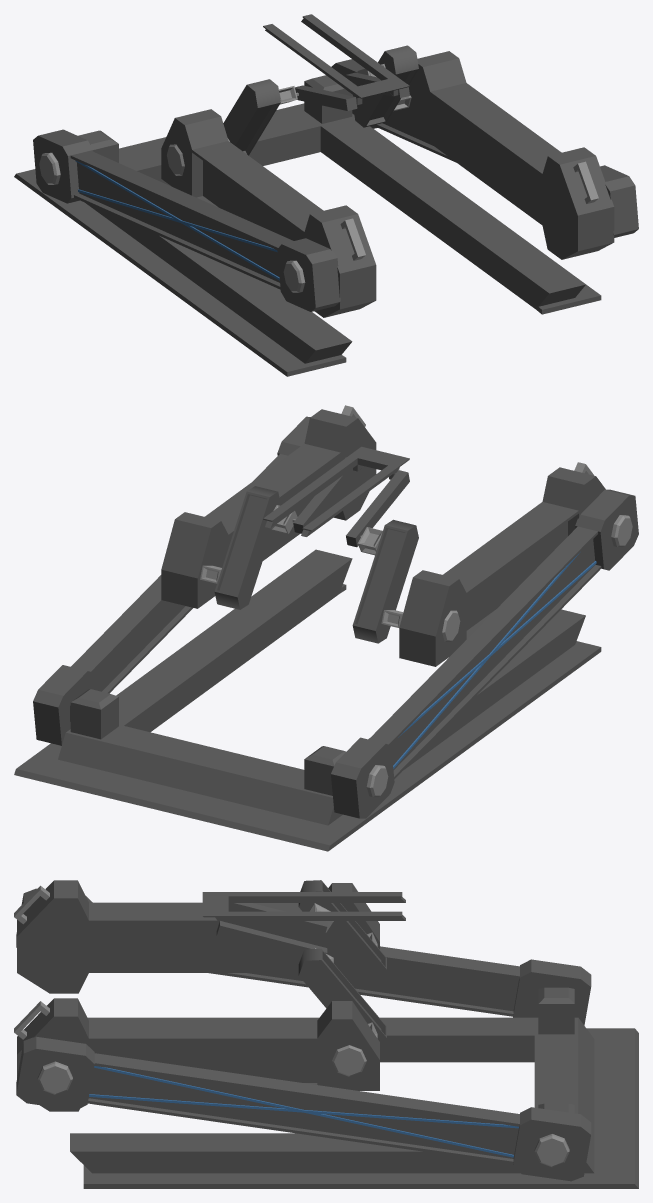
File: gun_holder.fbx
3 renders of one model, top to bottom at view 1: azimuth 30°, elevation 25°; view 2: azimuth 150°, elevation 25°; view 3: azimuth 270°, elevation 25°, orthographic.
Visible parts, largest first — view 1: pCube15; view 2: pCube15; view 3: pCube15.
Part boxes in pixels (box(x1,y1,x2,y2)): pCube15: box(14, 14, 638, 376); pCube15: box(14, 405, 638, 851); pCube15: box(14, 880, 638, 1188).
Size of the model in its own units: 40.53 by 23.62 by 64.64.
